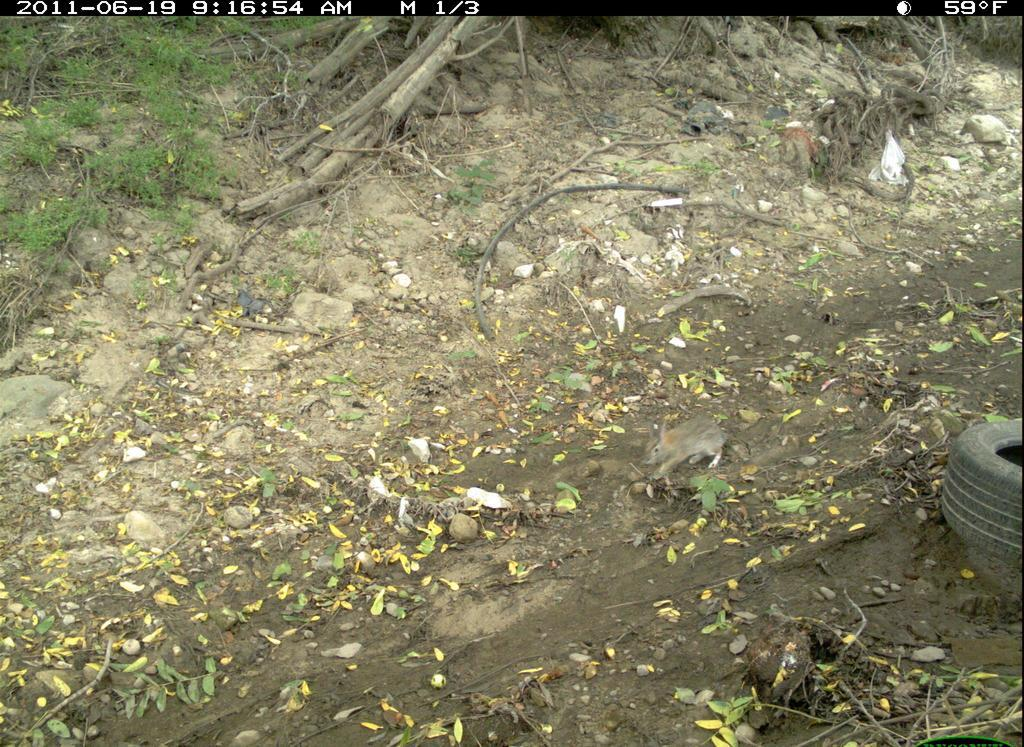rabbit: (632, 410, 733, 491)
